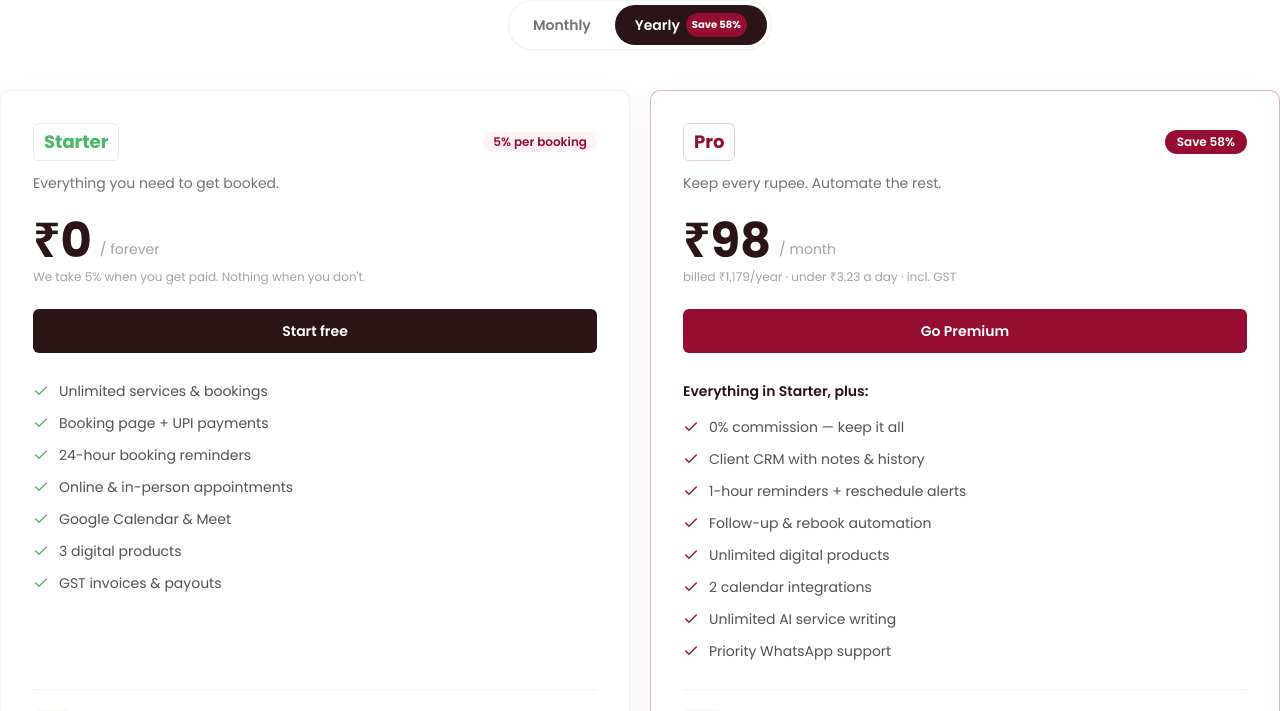
Test: PricingCards › shows the monthly price when the toggle is switched
Step 1. Click the button "Monthly" → coordinates (562, 25), box [513,5,611,45]
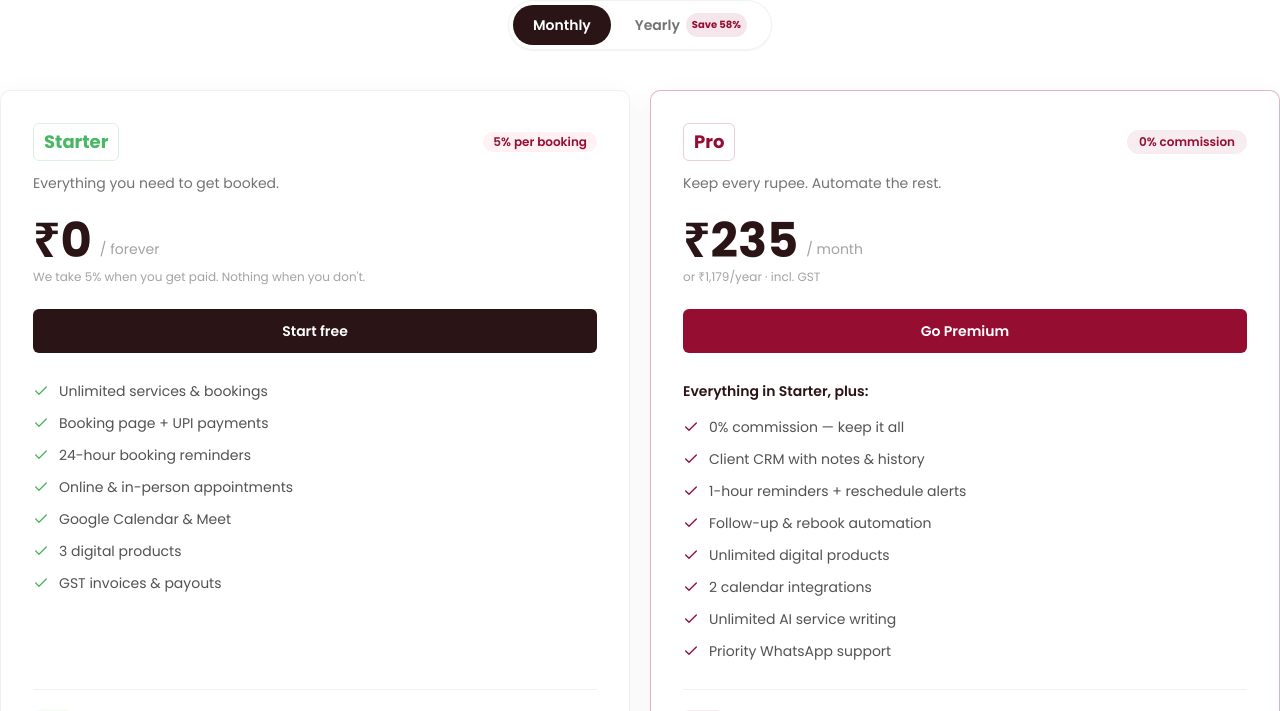
Check: the text "₹235" is shown, box [683,217,798,265]
